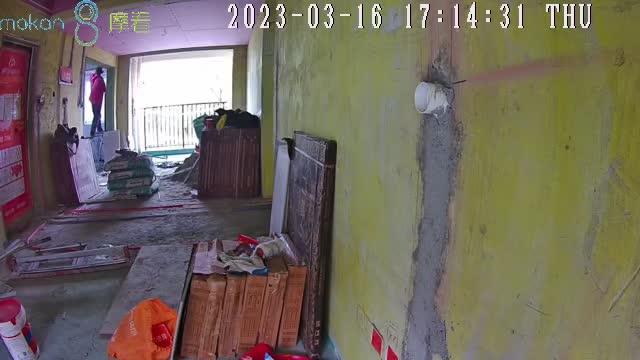people: (90, 66, 109, 137)
window: (138, 57, 235, 151)
